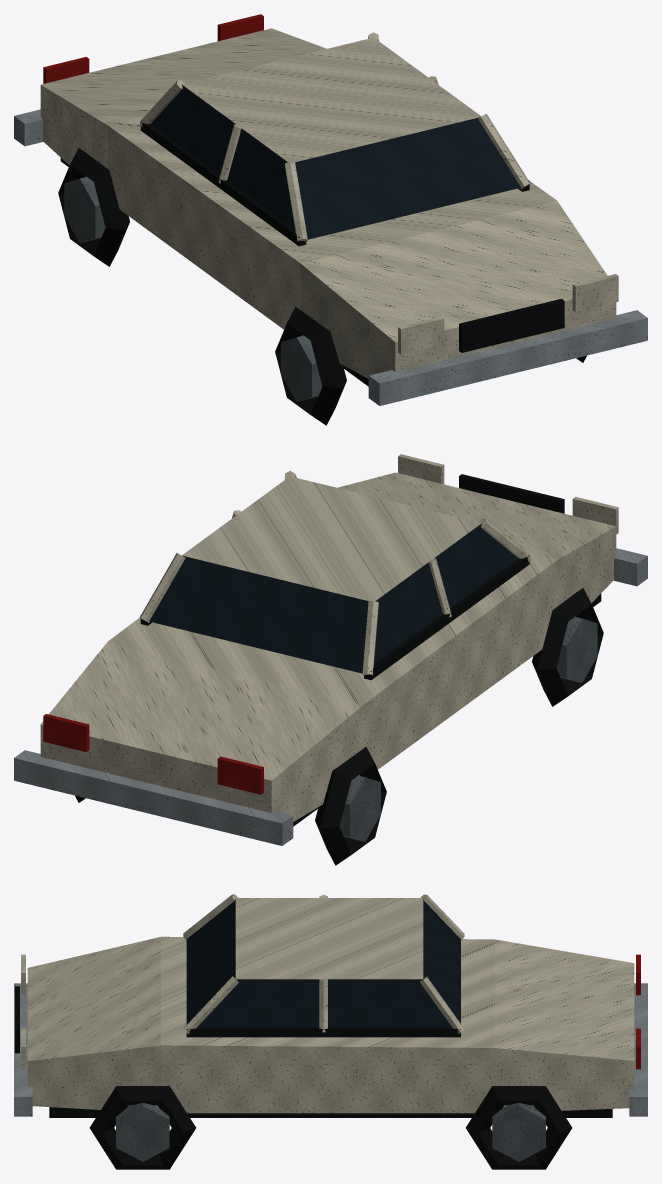
The model's file is PROP-7BE04B79B634_lod2.glb.
3 renders of one model, top to bottom at view 1: azimuth 30°, elevation 25°; view 2: azimuth 150°, elevation 25°; view 3: azimuth 270°, elevation 25°, orthographic. The views are drawn at different scales.
Visible parts, largest first — view 1: shaped_body_panels.002, sloped_cabin_glazing.002, roof_panel.002, bumper.002, tire.002, rim.002, radiator_grille.002, window_pillars.002, lamp_lenses.004, window_belt.002, lamp_lenses.005; view 2: shaped_body_panels.002, sloped_cabin_glazing.002, roof_panel.002, bumper.002, tire.002, rim.002, window_pillars.002, lamp_lenses.005, window_belt.002, lamp_lenses.004, radiator_grille.002; view 3: shaped_body_panels.002, sloped_cabin_glazing.002, roof_panel.002, tire.002, rim.002, bumper.002, window_belt.002, window_pillars.002, chassis.002, lamp_lenses.004, lamp_lenses.005.
Part boxes in pixels (x1=…): shaped_body_panels.002: x1=40, y1=28, x2=616, y2=378; sloped_cabin_glazing.002: x1=151, y1=85, x2=520, y2=239; roof_panel.002: x1=182, y1=37, x2=480, y2=162; bumper.002: x1=14, y1=109, x2=647, y2=405; tire.002: x1=58, y1=148, x2=586, y2=425; rim.002: x1=64, y1=177, x2=322, y2=401; radiator_grille.002: x1=459, y1=298, x2=564, y2=352; window_pillars.002: x1=139, y1=32, x2=530, y2=241; lamp_lenses.004: x1=398, y1=274, x2=618, y2=354; window_belt.002: x1=140, y1=121, x2=529, y2=246; lamp_lenses.005: x1=43, y1=14, x2=263, y2=83; shaped_body_panels.002: x1=40, y1=472, x2=616, y2=821; sloped_cabin_glazing.002: x1=149, y1=523, x2=518, y2=673; roof_panel.002: x1=182, y1=476, x2=481, y2=601; bumper.002: x1=14, y1=548, x2=647, y2=845; tire.002: x1=75, y1=588, x2=603, y2=865; rim.002: x1=339, y1=617, x2=597, y2=841; window_pillars.002: x1=139, y1=471, x2=530, y2=675; lamp_lenses.005: x1=43, y1=714, x2=263, y2=794; window_belt.002: x1=140, y1=555, x2=529, y2=680; lamp_lenses.004: x1=398, y1=454, x2=618, y2=534; radiator_grille.002: x1=459, y1=474, x2=564, y2=513; shaped_body_panels.002: x1=27, y1=936, x2=634, y2=1113; sloped_cabin_glazing.002: x1=186, y1=898, x2=460, y2=1027; roof_panel.002: x1=235, y1=898, x2=423, y2=979; tire.002: x1=89, y1=1086, x2=572, y2=1169; rim.002: x1=116, y1=1102, x2=545, y2=1161; bumper.002: x1=14, y1=983, x2=647, y2=1116; window_belt.002: x1=186, y1=1027, x2=460, y2=1037; window_pillars.002: x1=183, y1=894, x2=464, y2=1033; chassis.002: x1=49, y1=1107, x2=612, y2=1117; lamp_lenses.004: x1=21, y1=954, x2=25, y2=1069; lamp_lenses.005: x1=636, y1=954, x2=640, y2=1069.
Bounding box in the file's own units: 1.98 × 1.38 × 4.39.
7 materials, 7 textured.
